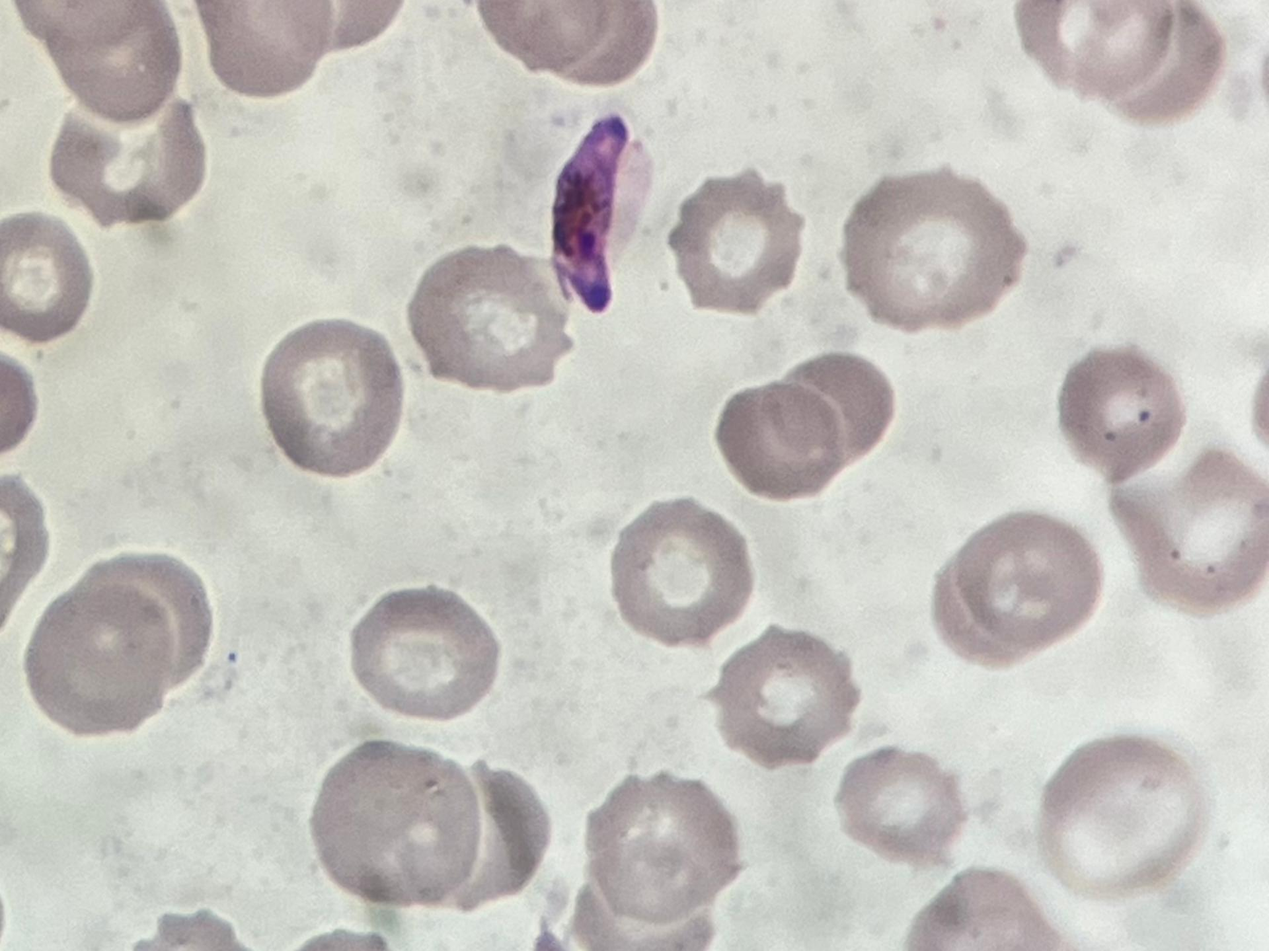Infected: (550, 113, 660, 311)
Uninfected: (843, 167, 1024, 333), (311, 739, 485, 907), (1041, 734, 1211, 899), (1110, 450, 1269, 617), (585, 774, 744, 923), (410, 247, 570, 395), (608, 496, 755, 648), (711, 622, 857, 771), (28, 585, 172, 736), (266, 318, 401, 477), (952, 509, 1105, 649), (48, 101, 208, 228), (413, 764, 554, 908), (78, 552, 210, 703), (350, 589, 500, 720), (671, 166, 802, 312), (1082, 0, 1221, 127), (1058, 351, 1186, 481), (715, 380, 849, 501), (1008, 0, 1173, 98), (839, 741, 965, 867), (193, 0, 330, 102), (0, 212, 96, 340), (791, 351, 894, 460)
